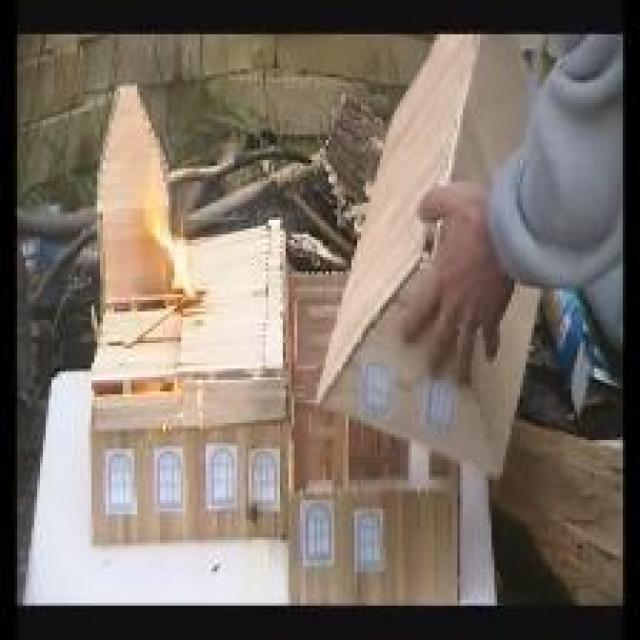Fire: (146, 200, 188, 292)
